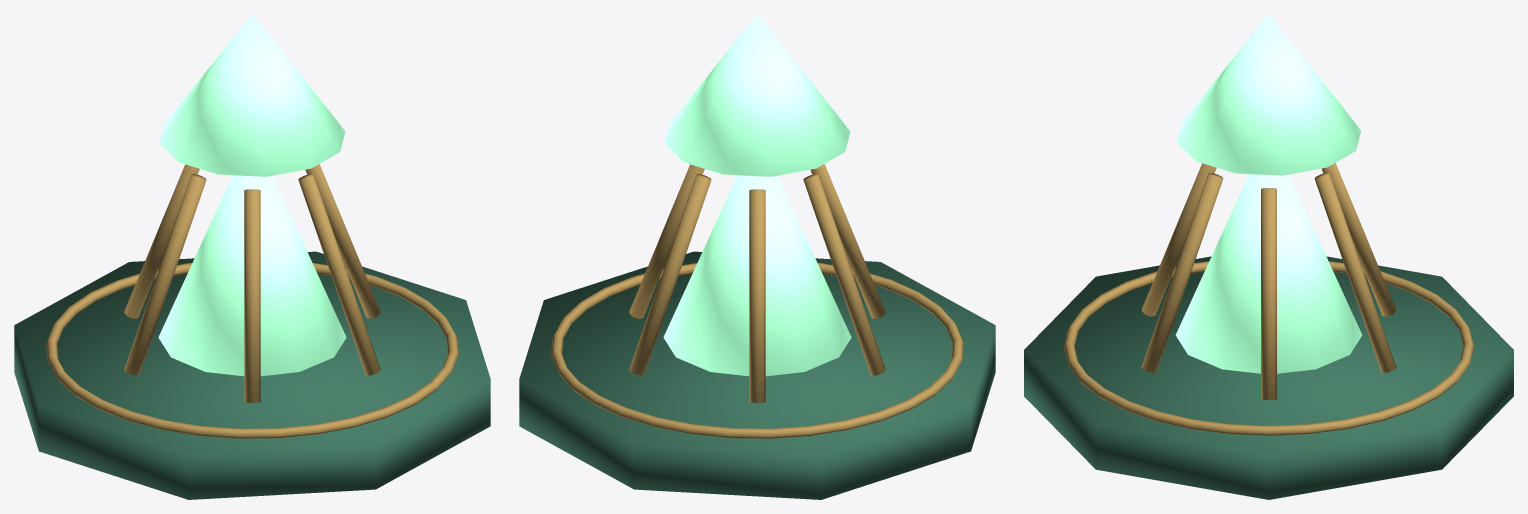
3 renders of one model, left to right at view 1: azimuth 30°, elevation 25°; view 2: azimuth 150°, elevation 25°; view 3: azimuth 270°, elevation 25°, orthographic.
Parts seen in each view (by area): view 1: Hexagonal plinth, Lower crystal, Upper crystal, Inlaid rim, Brass setting.004, Brass setting.003, Brass setting.005, Brass setting.002, Brass setting; view 2: Hexagonal plinth, Lower crystal, Upper crystal, Inlaid rim, Brass setting.002, Brass setting.001, Brass setting.003, Brass setting, Brass setting.004; view 3: Hexagonal plinth, Lower crystal, Upper crystal, Inlaid rim, Brass setting.001, Brass setting.005, Brass setting, Brass setting.004, Brass setting.002.
Boxes of the visible parts, box(x1,y1,x2,y2) form: Hexagonal plinth: box(14, 251, 490, 499); Lower crystal: box(158, 175, 346, 376); Upper crystal: box(159, 14, 345, 176); Inlaid rim: box(46, 263, 458, 438); Brass setting.004: box(244, 189, 260, 402); Brass setting.003: box(124, 174, 206, 375); Brass setting.005: box(298, 174, 380, 375); Brass setting.002: box(124, 164, 199, 318); Brass setting: box(305, 164, 380, 318); Hexagonal plinth: box(519, 251, 995, 499); Lower crystal: box(663, 175, 851, 376); Upper crystal: box(664, 14, 850, 176); Inlaid rim: box(551, 263, 963, 438); Brass setting.002: box(749, 189, 765, 402); Brass setting.001: box(629, 174, 711, 375); Brass setting.003: box(803, 174, 885, 375); Brass setting: box(629, 164, 704, 318); Brass setting.004: box(810, 164, 885, 318); Hexagonal plinth: box(1024, 256, 1513, 499); Lower crystal: box(1175, 174, 1362, 373); Upper crystal: box(1176, 14, 1361, 175); Inlaid rim: box(1064, 261, 1473, 435); Brass setting.001: box(1314, 173, 1396, 373); Brass setting.005: box(1141, 173, 1223, 373); Brass setting: box(1261, 188, 1276, 399); Brass setting.004: box(1141, 163, 1216, 316); Brass setting.002: box(1321, 163, 1396, 316).
Bounding box in the file's own units: 1.52 × 1.31 × 1.52.
